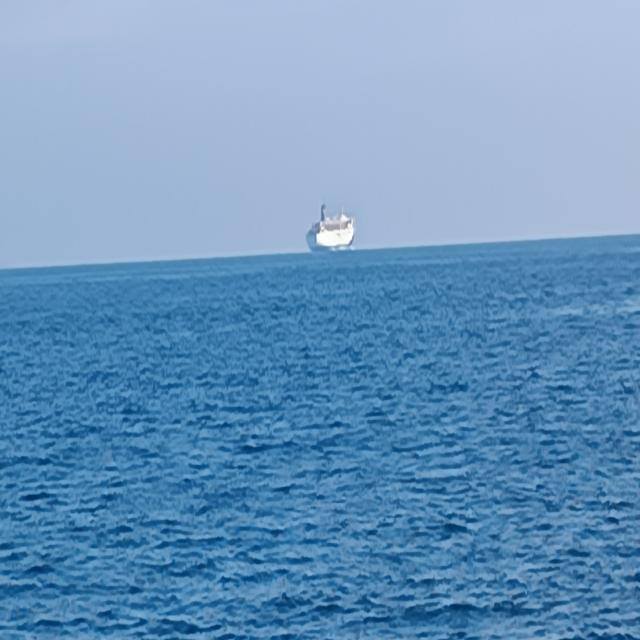PassengerShip: (298, 170, 407, 322)
